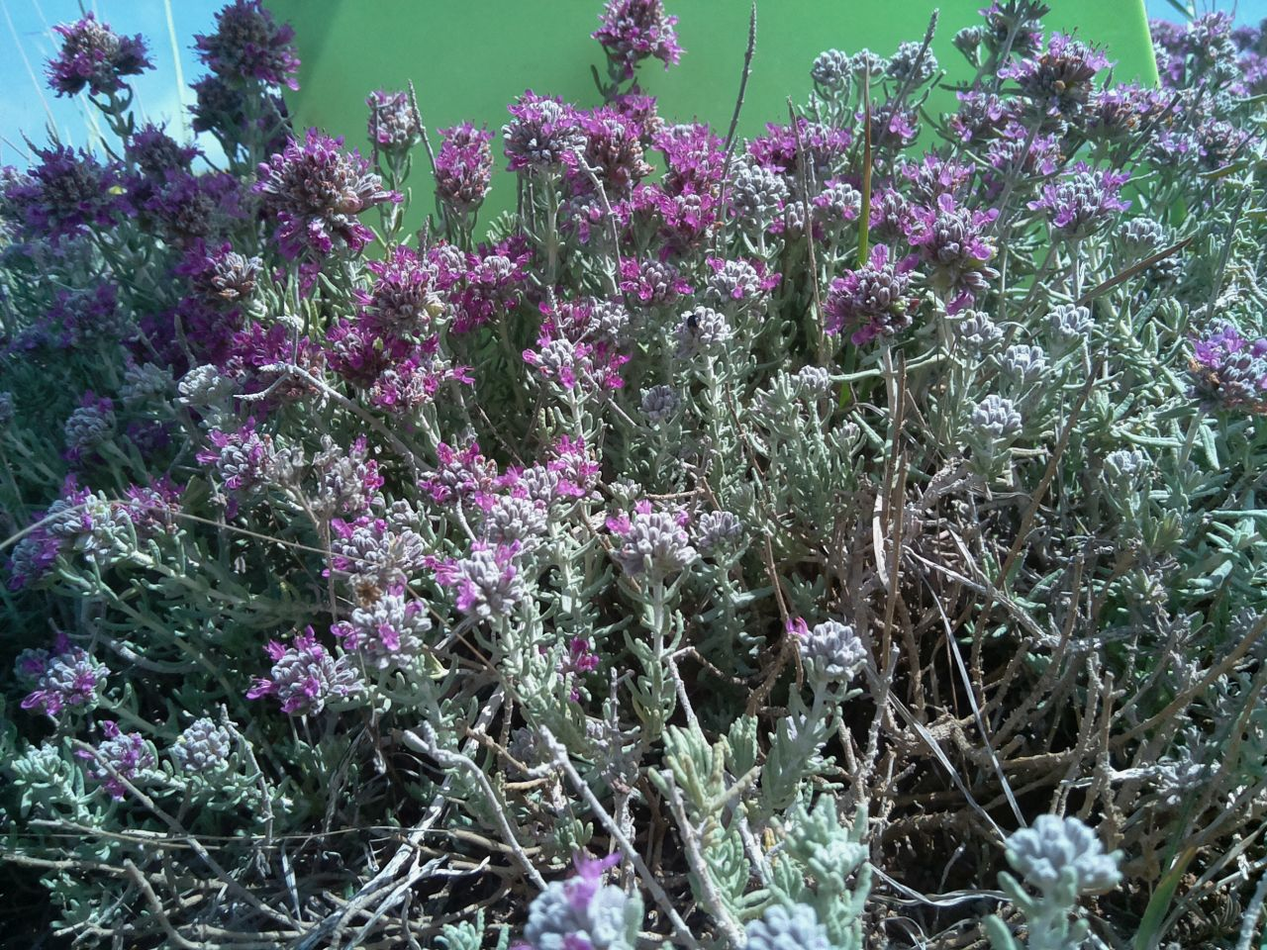Beetle: (684, 313, 706, 336)
